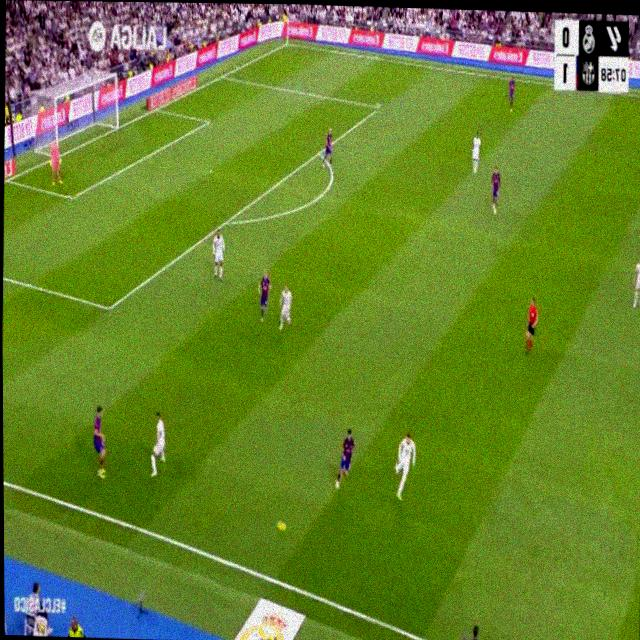bigarea_bottom_inner: (104, 295, 115, 320)
bigarea_top_inner: (376, 98, 384, 114)
bigarea_top_outter: (218, 67, 227, 81)
bottom_arc_area_intersection: (222, 211, 232, 231)
corner: (283, 37, 292, 48)
smallarea_bottom_inner: (67, 187, 76, 207)
smallarea_top_inner: (204, 114, 212, 128)
top_arc_area_intersection: (316, 144, 324, 160)
